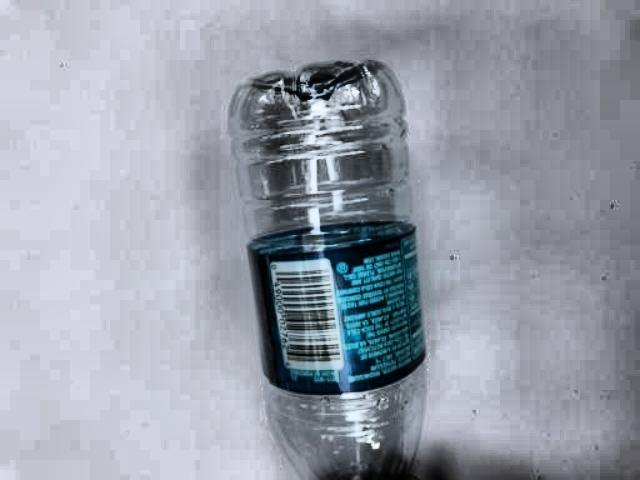Bottles: (207, 45, 444, 478)
